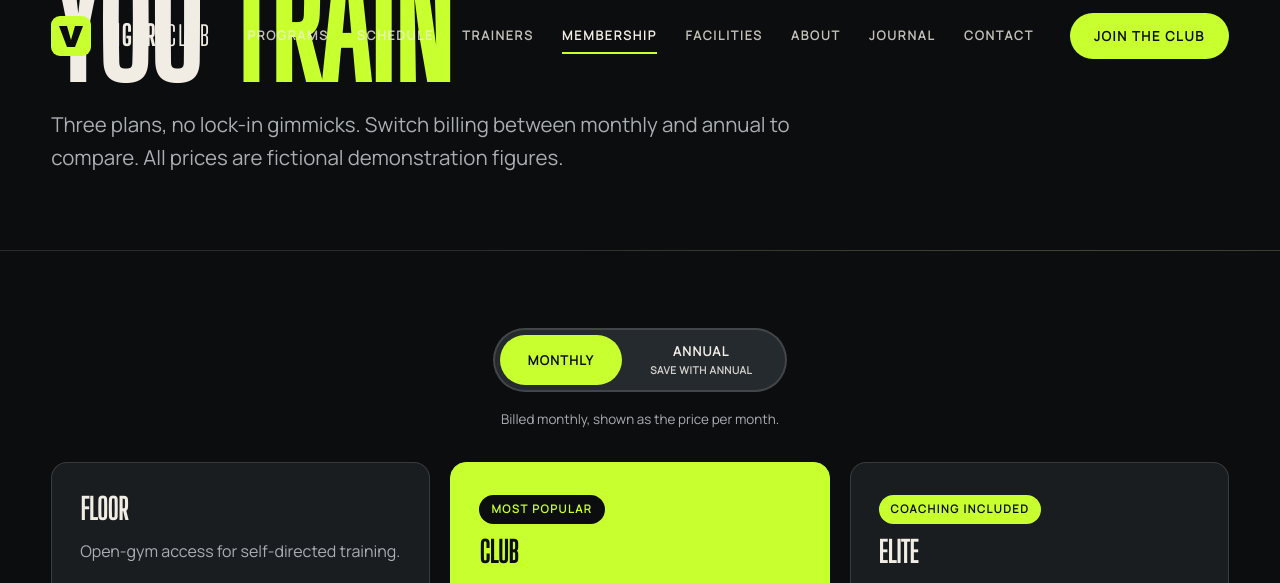
Scenario: membership › toggles monthly / annual pricing and updates every plan
(page scrolled)
Expected: the radio button labelled "Monthly" is checked, [500,335,622,385]
Step 1. Click the radio button labelled "Annual Save with annual" → (701, 360), box [622,335,780,385]
(page scrolled)
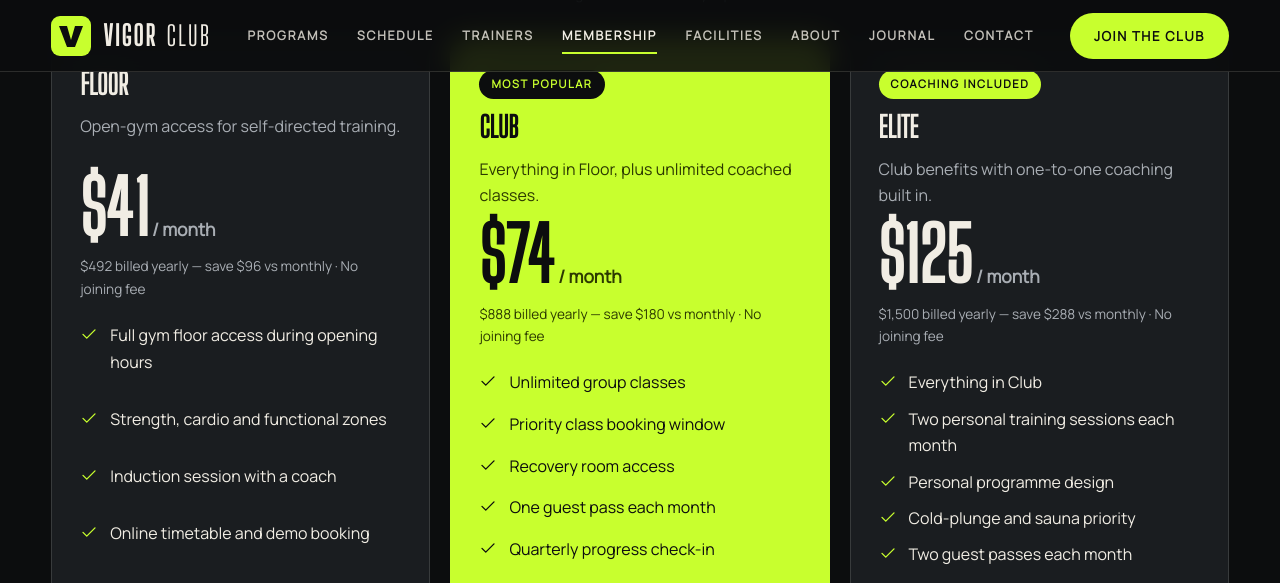
Expected: the element "Floor" shows "billed yearly", [80,257,332,275]
Expected: the element "Club" shows "billed yearly", [479,304,736,322]
Expected: the element "Elite" shows "billed yearly", [879,304,1146,322]
